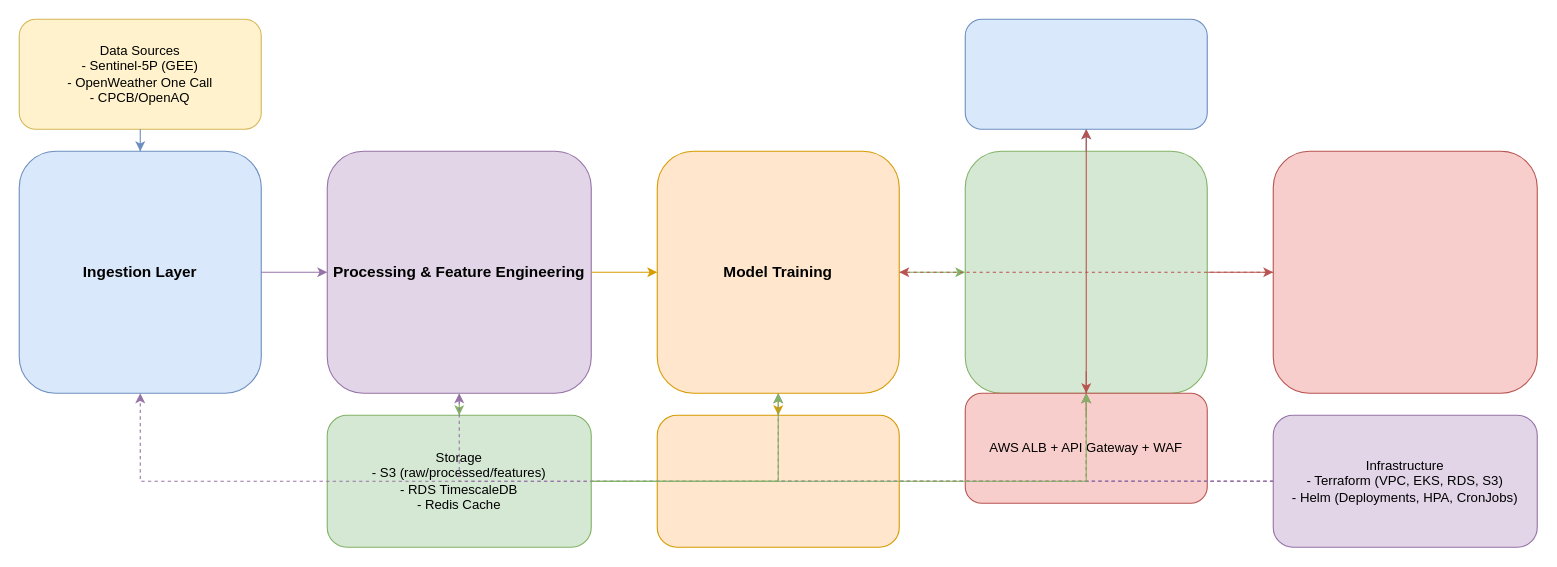
Some shapes in this 1557 by 567 pixel diagram are drawn without their labels. The box of each missing label's shape, as (x1, y1, x2, y2) in pixels:
Clients - Web Frontend (Next.js) - External API Consumers: (964, 18, 1207, 129)
ML Ops - MLflow Registry - Feature Store (Feast): (656, 414, 899, 547)
Observability & Ops: (1272, 150, 1537, 393)
Serving Layer: (964, 150, 1207, 393)
